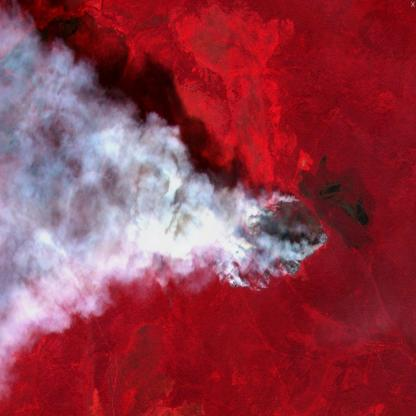fire: (220, 188, 332, 300), (55, 172, 98, 213), (55, 171, 96, 211), (13, 124, 40, 150)
